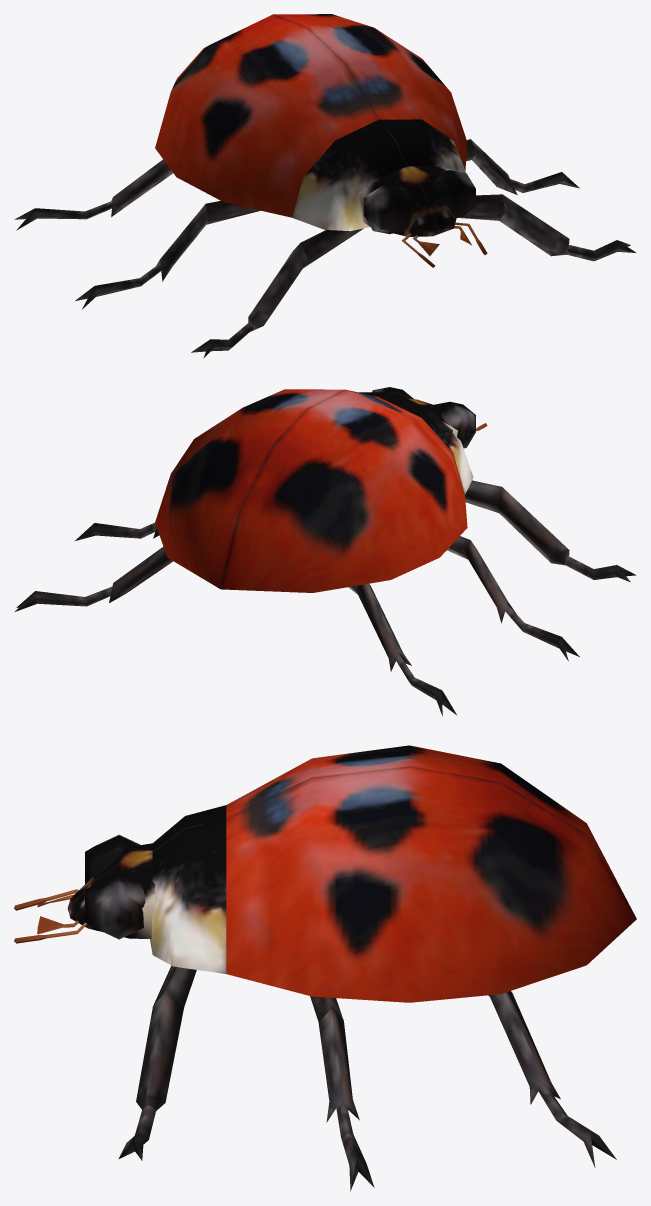
Rendered from insect.ico.obj.
The picture shows the model from 3 angles, top to bottom: view 1: azimuth 30°, elevation 25°; view 2: azimuth 150°, elevation 25°; view 3: azimuth 270°, elevation 25°; orthographic projection. The views are drawn at different scales.
Size of the model in its own units: 4.76 by 1.87 by 3.95.
1 material, 1 textured.
